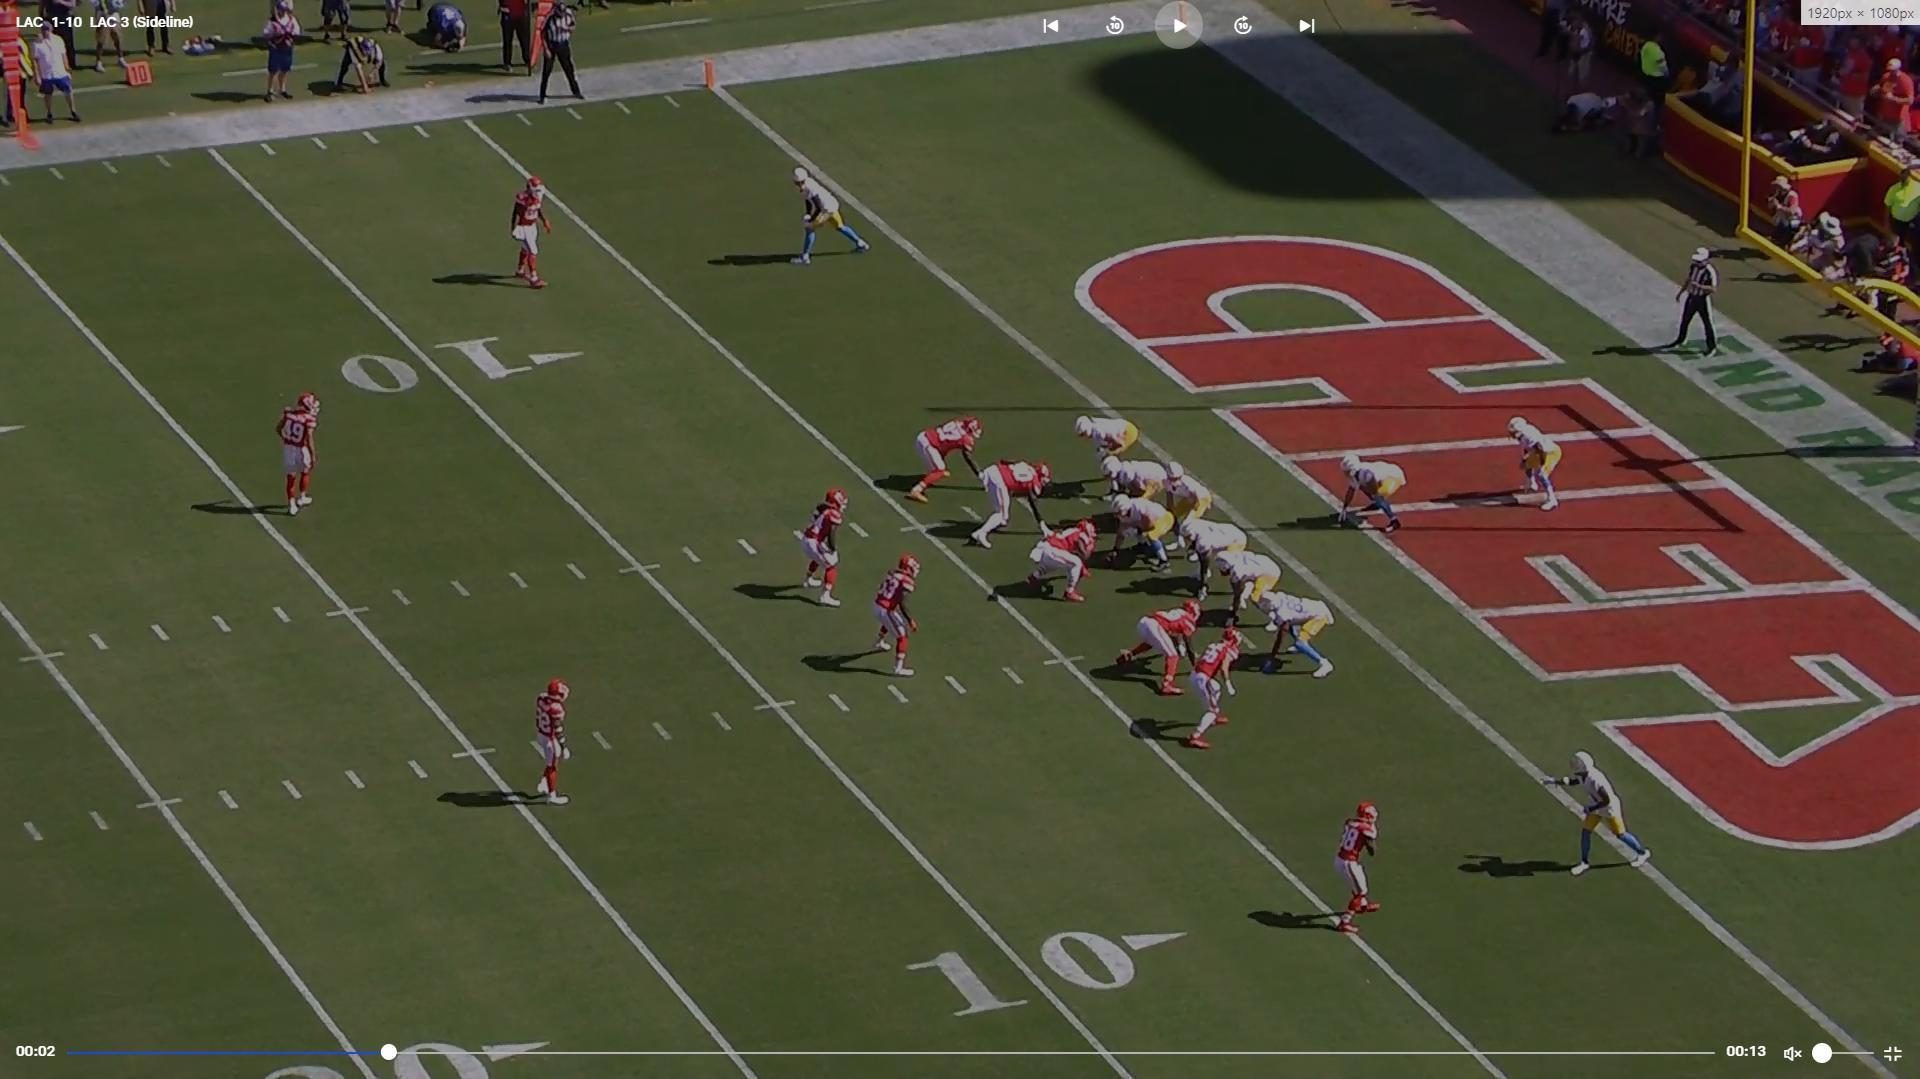defense: (1109, 596, 1197, 691), (1009, 522, 1101, 612), (1331, 801, 1390, 937), (969, 455, 1052, 547), (798, 483, 856, 611), (1192, 621, 1249, 748), (907, 416, 986, 505), (870, 554, 923, 683), (278, 390, 326, 521), (533, 673, 576, 814), (506, 174, 556, 294)
oline: (1106, 491, 1180, 571), (1183, 517, 1253, 601), (1218, 546, 1288, 624), (1097, 454, 1172, 525), (1071, 416, 1135, 478)
qb: (1158, 463, 1218, 561)
ref: (1665, 240, 1722, 357), (535, 3, 585, 107)
skill: (1565, 749, 1659, 881), (789, 166, 876, 268), (1257, 584, 1337, 679), (1506, 414, 1561, 518), (1337, 450, 1406, 533)
